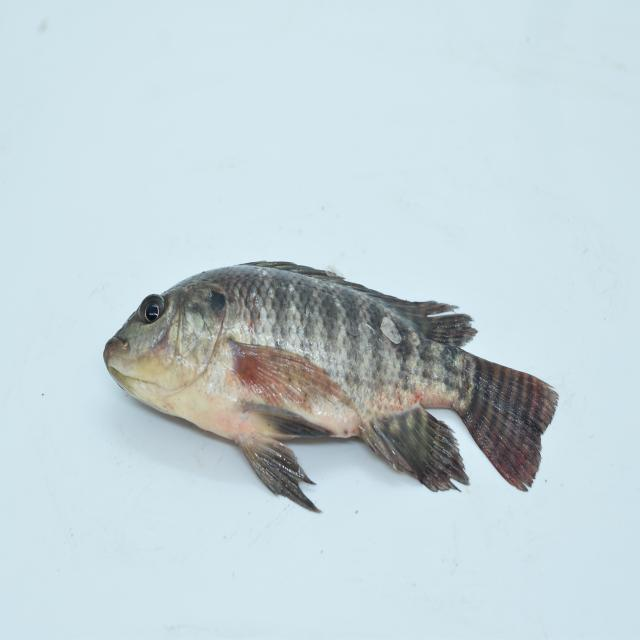Columnaris Disease: (100, 225, 601, 517)
